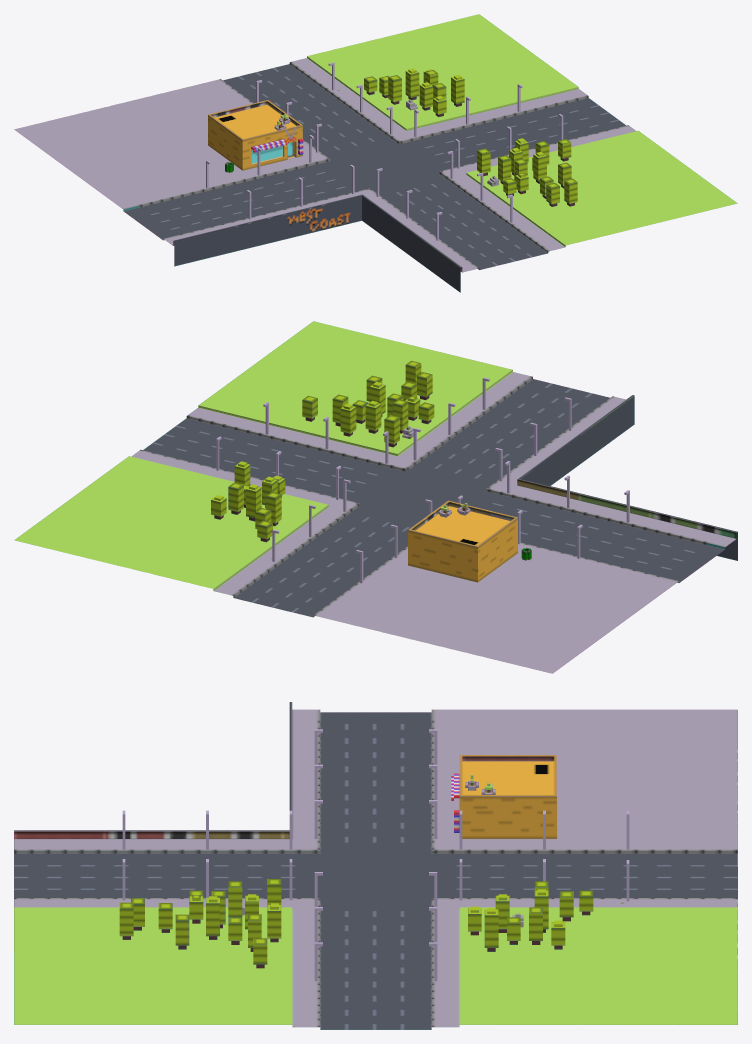
The model's file is map2block.fbx.
3 views of the same model, one above another, from view 1: azimuth 30°, elevation 25°; view 2: azimuth 150°, elevation 25°; view 3: azimuth 270°, elevation 25° (orthographic). The views are drawn at different scales.
Visible parts, largest first — view 1: Plane; view 2: Plane; view 3: Plane.
Boxes of the visible parts, x1,y1,x2,y2 form: Plane: (14,14,737,292); Plane: (14,321,737,673); Plane: (14,702,737,1029).
Size of the model in its own units: 2700 by 310 by 2600.
